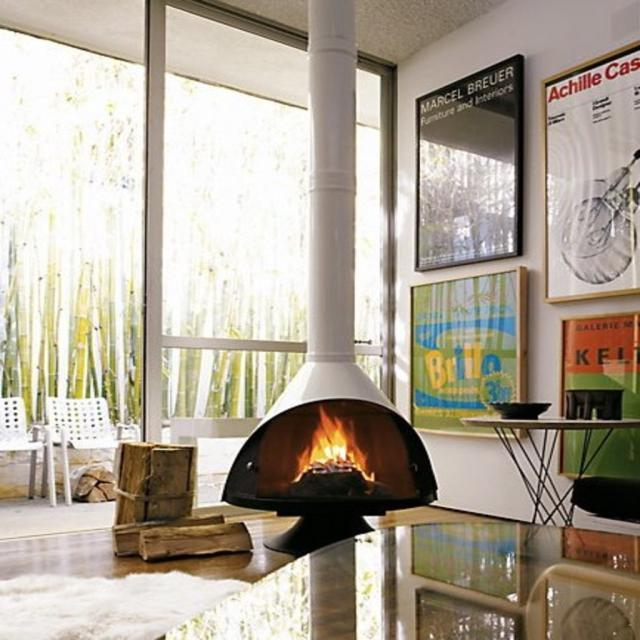Fire: (296, 407, 376, 485)
